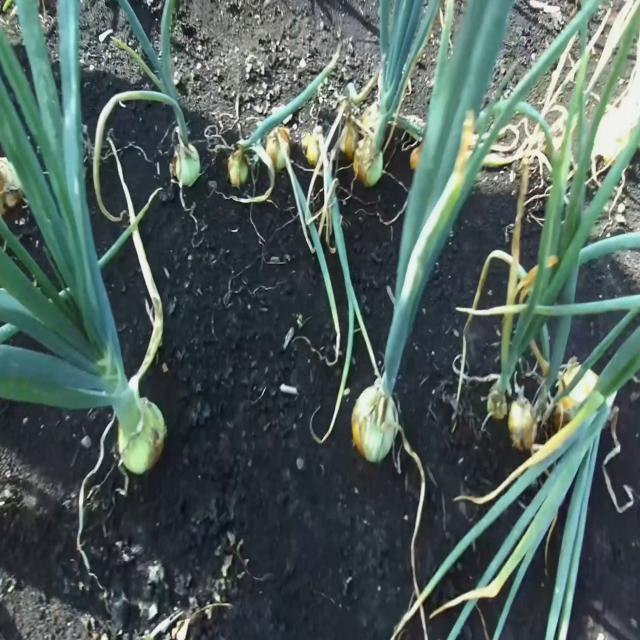onion: (351, 382, 398, 464), (508, 398, 538, 453), (171, 138, 201, 188), (0, 156, 24, 218), (265, 125, 290, 172), (227, 146, 249, 189)
